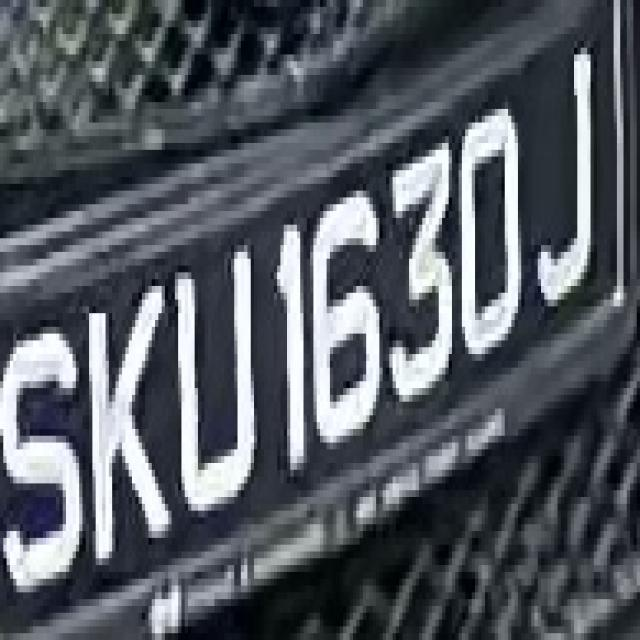0: (452, 89, 524, 368)
1: (280, 191, 320, 484)
3: (386, 143, 468, 415)
6: (303, 191, 386, 449)
J: (531, 34, 604, 306)
K: (86, 265, 178, 572)
S: (0, 306, 82, 605)
U: (171, 238, 264, 504)
